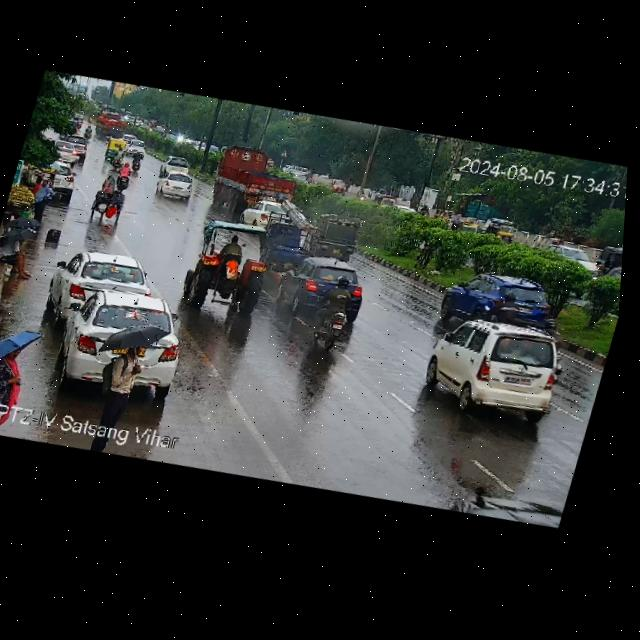car: (417, 303, 583, 445), (31, 222, 164, 345), (434, 258, 571, 351), (271, 236, 380, 339), (249, 209, 317, 276), (307, 208, 378, 266), (77, 165, 140, 228), (19, 158, 82, 219), (148, 163, 213, 215), (239, 188, 299, 237), (155, 145, 198, 183), (482, 212, 520, 249), (44, 133, 83, 169), (371, 184, 405, 215), (595, 240, 623, 276), (60, 130, 92, 161), (449, 210, 482, 237), (101, 134, 127, 164), (122, 134, 149, 161), (281, 160, 314, 179), (326, 172, 351, 197)
motorcycle: (294, 267, 372, 368), (477, 281, 531, 332), (534, 306, 572, 352), (112, 160, 144, 192), (122, 144, 151, 177), (109, 146, 132, 172), (414, 199, 438, 222), (73, 113, 90, 133), (440, 202, 457, 222), (354, 185, 372, 203)
person: (86, 324, 162, 425), (0, 308, 45, 406), (0, 220, 45, 295), (24, 173, 67, 225)
truck: (177, 215, 277, 320), (210, 138, 316, 224), (89, 102, 134, 144)
